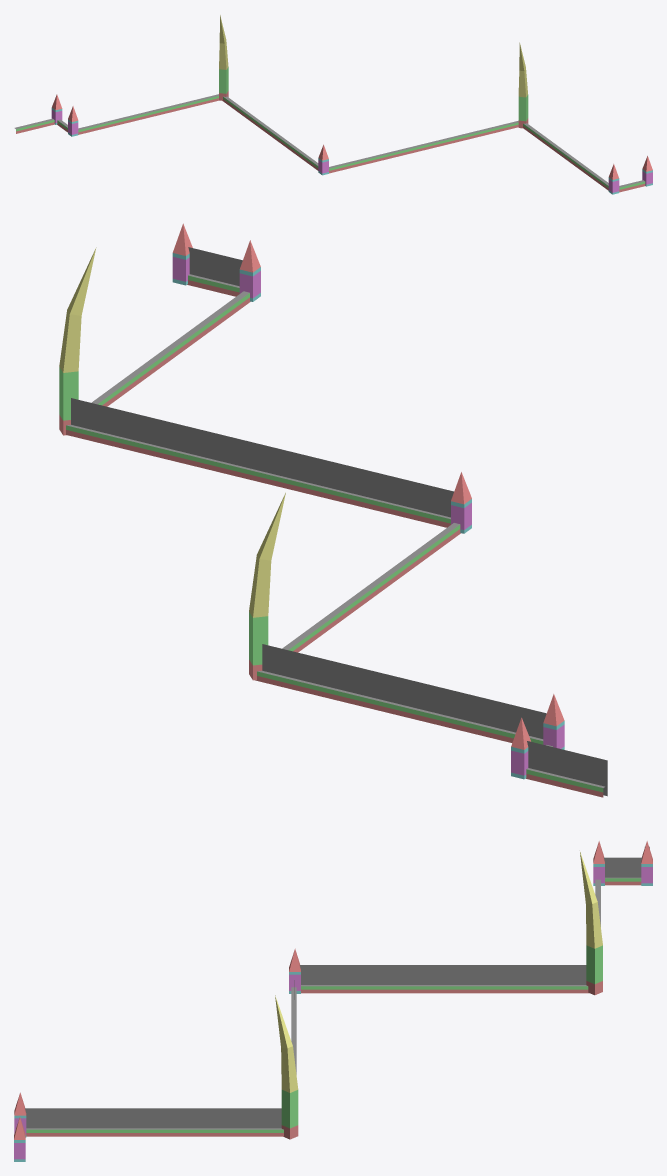
Rendered from O_DE_fence04.gltf.
3 views of the same model, one above another, from view 1: azimuth 30°, elevation 25°; view 2: azimuth 150°, elevation 25°; view 3: azimuth 270°, elevation 25° (orthographic). The views are drawn at different scales.
Visible parts, largest first — view 1: O_DE_fence04; view 2: O_DE_fence04; view 3: O_DE_fence04.
Part boxes in pixels (<box>): O_DE_fence04: <box>14,15,652,194</box>; O_DE_fence04: <box>59,223,607,797</box>; O_DE_fence04: <box>14,841,652,1161</box>.
Size of the model in its own units: 14.95 by 3.07 by 13.04.
